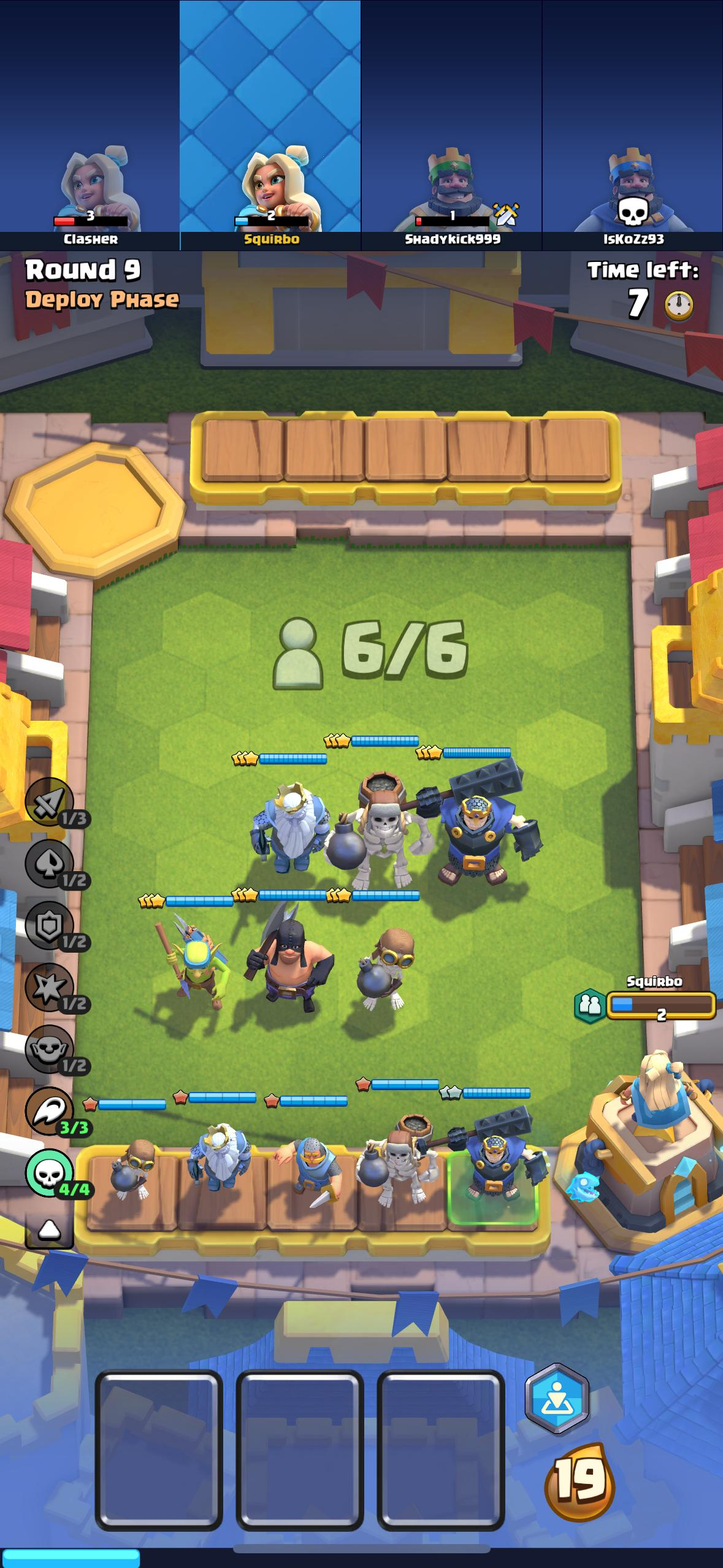bomber: (349, 920, 424, 1020), (106, 1129, 159, 1203)
executioner: (243, 902, 335, 1018)
ghost: (241, 776, 333, 879), (185, 1117, 258, 1194)
giant: (327, 765, 434, 892), (354, 1101, 442, 1212)
king: (416, 756, 546, 890), (444, 1104, 554, 1206)
knight: (268, 1110, 346, 1209)
spear: (146, 912, 233, 1014)
